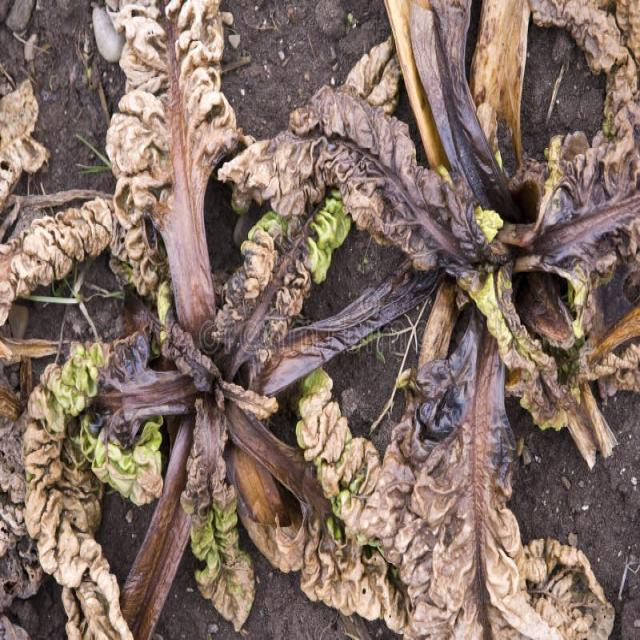rotten spinach: (268, 2, 640, 640), (0, 2, 263, 640)
